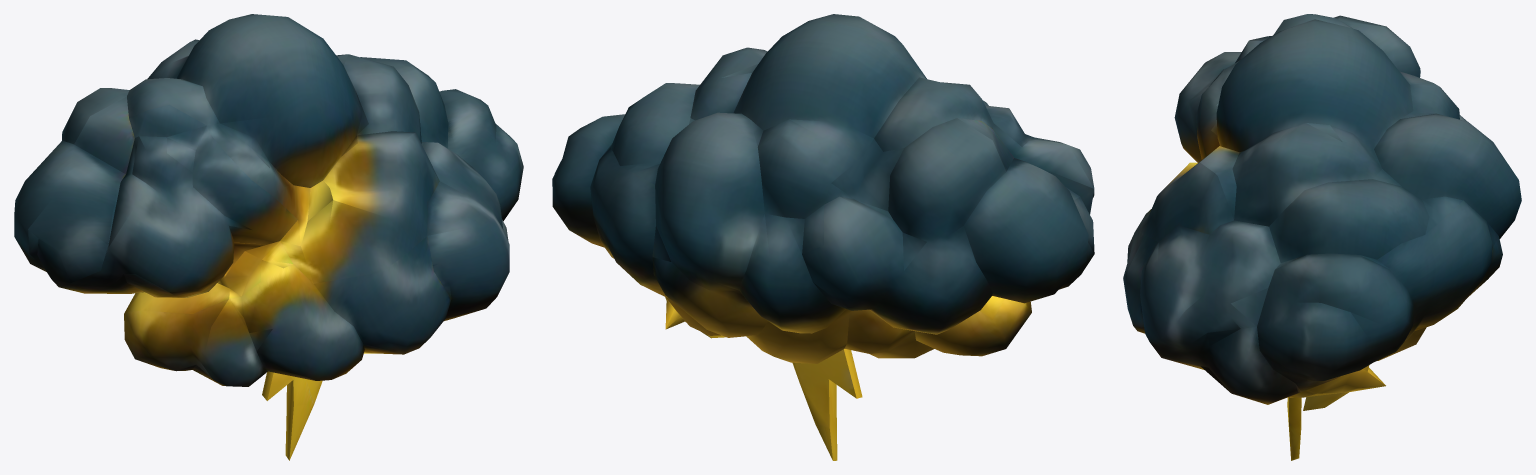
The model's file is stormCloud.glb.
3 renders of one model, left to right at view 1: azimuth 30°, elevation 25°; view 2: azimuth 150°, elevation 25°; view 3: azimuth 270°, elevation 25°, orthographic. The views are drawn at different scales.
Visible parts, largest first — view 1: model; view 2: model; view 3: model.
Part boxes in pixels (x1=…): model: x1=14, y1=14, x2=523, y2=460; model: x1=552, y1=14, x2=1094, y2=460; model: x1=1123, y1=14, x2=1521, y2=460.
Bounding box in the file's own units: 1.9 × 1.59 × 1.35.
1 material, 1 textured.
